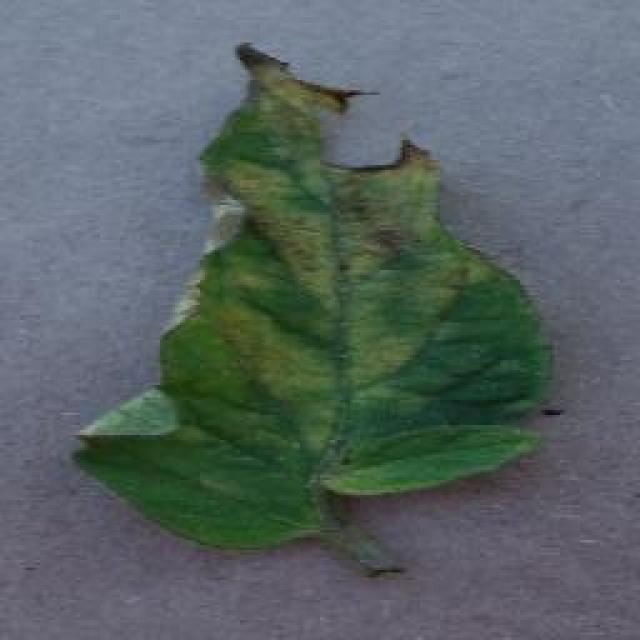Tomato mold leaf: (71, 39, 556, 544)
